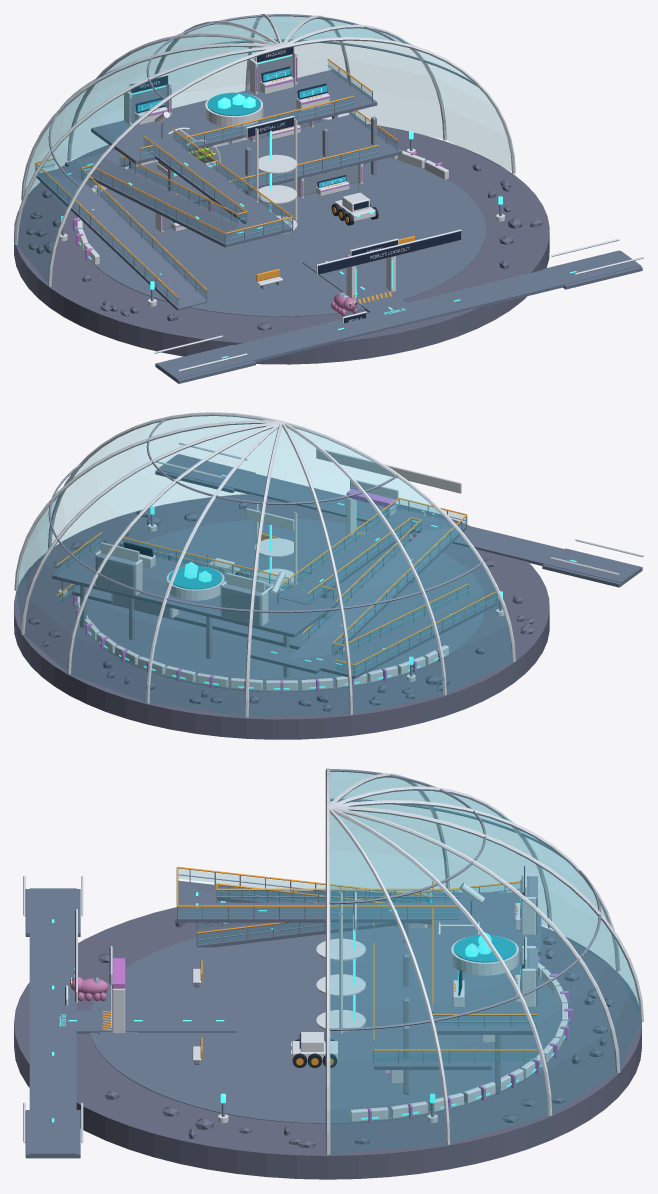
File: pebble.glb
3 renders of one model, top to bottom at view 1: azimuth 30°, elevation 25°; view 2: azimuth 150°, elevation 25°; view 3: azimuth 270°, elevation 25°, orthographic. The views are drawn at different scales.
Parts seen in each view (by area): view 1: BATCH_pebble floor.004, BATCH_pebble glass.004, BATCH_pebble rock.004, BATCH_pebble white.004, BATCH_pebble steel.004, BATCH_pebble navy.004, BATCH_pebble orange.004, BATCH_pebble cyan.004, BATCH_pebble accent.004, BATCH_pebble water.004, BATCH_pebble screen.004; view 2: BATCH_pebble glass.004, BATCH_pebble floor.004, BATCH_pebble rock.004, BATCH_pebble white.004, BATCH_pebble steel.004, BATCH_pebble orange.004, BATCH_pebble accent.004, BATCH_pebble cyan.004, BATCH_pebble water.004; view 3: BATCH_pebble glass.004, BATCH_pebble floor.004, BATCH_pebble rock.004, BATCH_pebble white.004, BATCH_pebble steel.004, BATCH_pebble orange.004, BATCH_pebble accent.004, BATCH_pebble cyan.004, BATCH_pebble water.004.
Boxes of the visible parts, <box> form: BATCH_pebble floor.004: <box>36,69,642,383</box>; BATCH_pebble glass.004: <box>17,16,511,305</box>; BATCH_pebble rock.004: <box>14,119,549,364</box>; BATCH_pebble white.004: <box>14,14,643,371</box>; BATCH_pebble steel.004: <box>35,14,501,308</box>; BATCH_pebble navy.004: <box>131,47,461,323</box>; BATCH_pebble orange.004: <box>35,58,414,303</box>; BATCH_pebble cyan.004: <box>61,54,576,358</box>; BATCH_pebble accent.004: <box>73,57,442,260</box>; BATCH_pebble water.004: <box>207,92,260,115</box>; BATCH_pebble screen.004: <box>137,68,346,222</box>; BATCH_pebble glass.004: <box>16,416,512,716</box>; BATCH_pebble floor.004: <box>52,454,642,692</box>; BATCH_pebble rock.004: <box>14,494,549,739</box>; BATCH_pebble white.004: <box>14,412,643,717</box>; BATCH_pebble steel.004: <box>48,418,501,677</box>; BATCH_pebble orange.004: <box>56,497,496,665</box>; BATCH_pebble accent.004: <box>73,489,440,693</box>; BATCH_pebble cyan.004: <box>75,474,576,689</box>; BATCH_pebble water.004: <box>168,566,222,589</box>; BATCH_pebble glass.004: <box>178,772,641,1153</box>; BATCH_pebble floor.004: <box>25,880,561,1158</box>; BATCH_pebble rock.004: <box>14,890,641,1179</box>; BATCH_pebble white.004: <box>23,768,643,1154</box>; BATCH_pebble steel.004: <box>177,769,601,1116</box>; BATCH_pebble orange.004: <box>102,866,537,1065</box>; BATCH_pebble accent.004: <box>112,879,572,1123</box>; BATCH_pebble cyan.004: <box>52,879,569,1122</box>; BATCH_pebble water.004: <box>453,935,516,962</box>.
Size of the model in its own units: 48.29 by 20.3 by 48.15.
